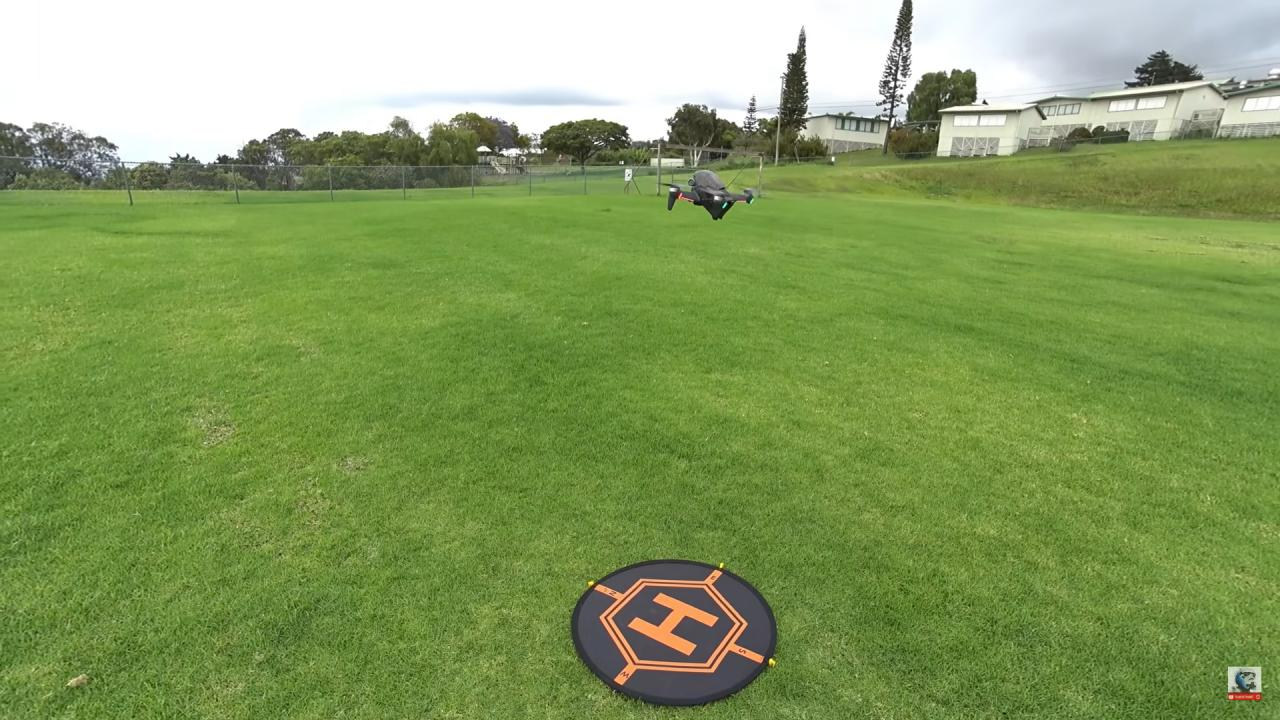Drone: (652, 162, 762, 227)
